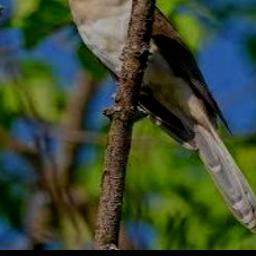Cuckoo: (38, 0, 256, 234)
